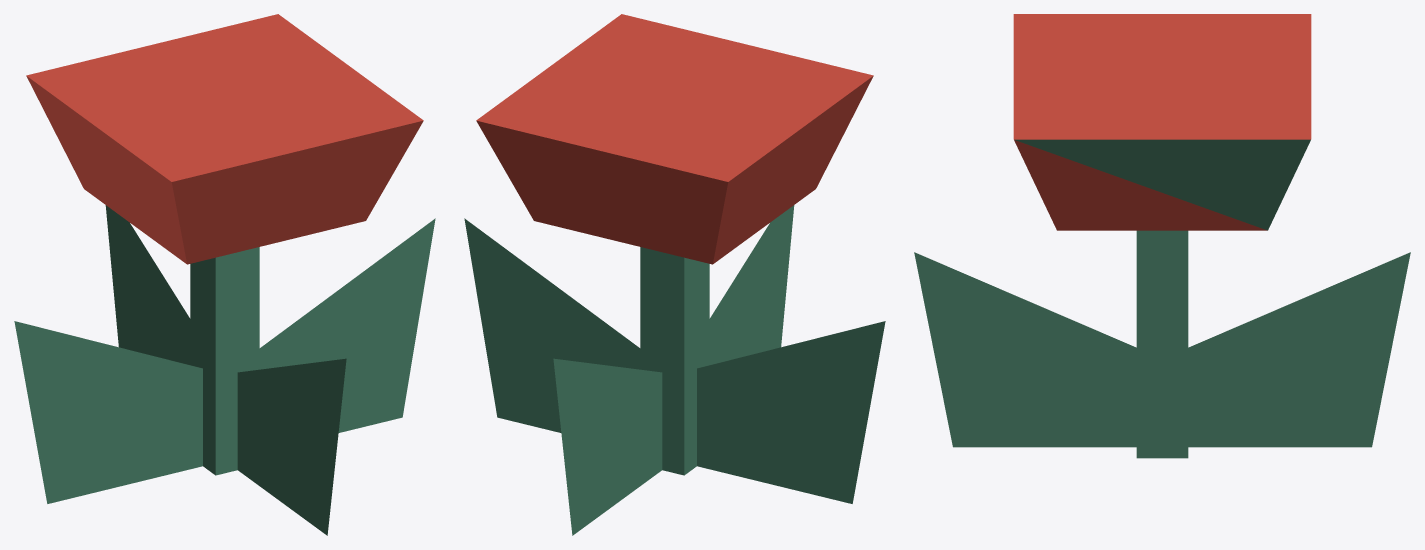
Rendered from naturePack_flat_010.obj.
3 renders of one model, left to right at view 1: azimuth 30°, elevation 25°; view 2: azimuth 150°, elevation 25°; view 3: azimuth 270°, elevation 25°, orthographic. The views are drawn at different scales.
Parts seen in each view (by area): view 1: Mesh3_Flower_Red_Model, Mesh1_Flower_Red_Model, Mesh4_Flower_Red_Model, Mesh5_Flower_Red_Model, Mesh2_Flower_Red_Model; view 2: Mesh3_Flower_Red_Model, Mesh1_Flower_Red_Model, Mesh4_Flower_Red_Model, Mesh2_Flower_Red_Model, Mesh5_Flower_Red_Model; view 3: Mesh3_Flower_Red_Model, Mesh2_Flower_Red_Model, Mesh5_Flower_Red_Model.
Part boxes in pixels (box(x1,y1,x2,y2)): Mesh3_Flower_Red_Model: box(26, 14, 423, 475); Mesh1_Flower_Red_Model: box(14, 321, 202, 503); Mesh4_Flower_Red_Model: box(259, 218, 435, 432); Mesh5_Flower_Red_Model: box(237, 358, 346, 535); Mesh2_Flower_Red_Model: box(105, 205, 190, 364); Mesh3_Flower_Red_Model: box(476, 14, 873, 475); Mesh1_Flower_Red_Model: box(697, 321, 885, 503); Mesh4_Flower_Red_Model: box(464, 218, 640, 432); Mesh2_Flower_Red_Model: box(553, 358, 662, 535); Mesh5_Flower_Red_Model: box(709, 205, 794, 364); Mesh3_Flower_Red_Model: box(1013, 14, 1311, 458); Mesh2_Flower_Red_Model: box(1188, 252, 1410, 447); Mesh5_Flower_Red_Model: box(914, 252, 1136, 447).
Bounding box in the file's own units: 0.4859 × 0.4 × 0.4859.
